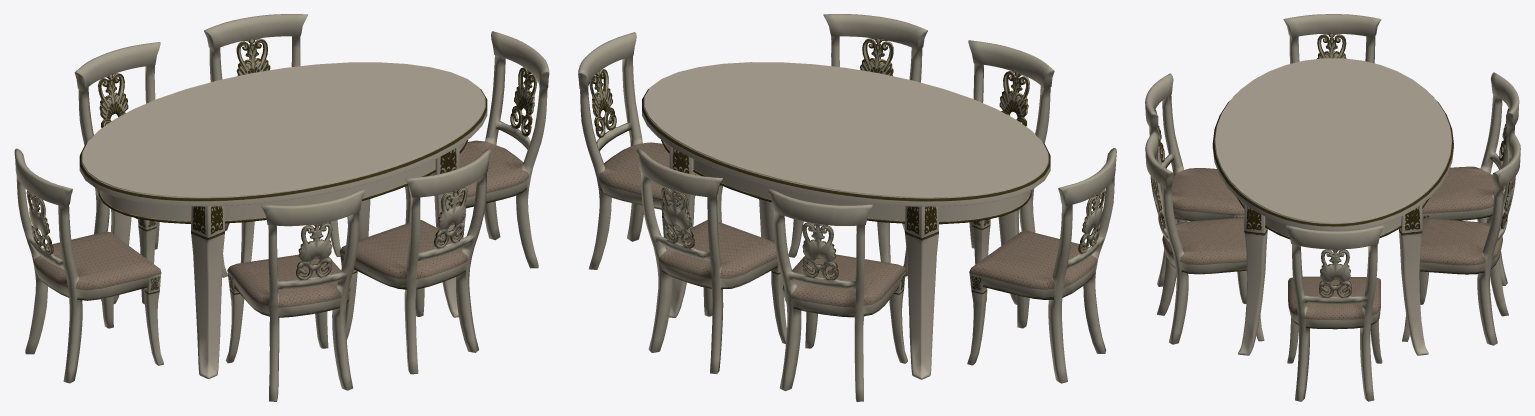
Rendered from table.gltf.
3 renders of one model, left to right at view 1: azimuth 30°, elevation 25°; view 2: azimuth 150°, elevation 25°; view 3: azimuth 270°, elevation 25°, orthographic. The views are drawn at different scales.
Visible parts, largest first — view 1: Vivaldi_wood_table_low_1_, Vivaldi_wood_stool_low_011, Vivaldi_wood_stool_low_007, Vivaldi_wood_stool_low_010, Vivaldi_wood_stool_low_006, Vivaldi_wood_stool_low_008, Vivaldi_wood_stool_low_009; view 2: Vivaldi_wood_table_low_1_, Vivaldi_wood_stool_low_008, Vivaldi_wood_stool_low_009, Vivaldi_wood_stool_low_007, Vivaldi_wood_stool_low_006, Vivaldi_wood_stool_low_011, Vivaldi_wood_stool_low_010; view 3: Vivaldi_wood_table_low_1_, Vivaldi_wood_stool_low_006, Vivaldi_wood_stool_low_010, Vivaldi_wood_stool_low_009, Vivaldi_wood_stool_low_008, Vivaldi_wood_stool_low_011, Vivaldi_wood_stool_low_007.
Part boxes in pixels (left/top/right/bottom): Vivaldi_wood_table_low_1_: left=79, top=62, right=487, bottom=378; Vivaldi_wood_stool_low_011: left=225, top=189, right=364, bottom=401; Vivaldi_wood_stool_low_007: left=14, top=148, right=163, bottom=383; Vivaldi_wood_stool_low_010: left=339, top=149, right=490, bottom=374; Vivaldi_wood_stool_low_006: left=405, top=31, right=549, bottom=268; Vivaldi_wood_stool_low_008: left=74, top=42, right=227, bottom=304; Vivaldi_wood_stool_low_009: left=204, top=14, right=340, bottom=262; Vivaldi_wood_table_low_1_: left=642, top=62, right=1050, bottom=379; Vivaldi_wood_stool_low_008: left=768, top=189, right=907, bottom=401; Vivaldi_wood_stool_low_009: left=636, top=148, right=786, bottom=373; Vivaldi_wood_stool_low_007: left=967, top=148, right=1116, bottom=383; Vivaldi_wood_stool_low_006: left=578, top=32, right=722, bottom=269; Vivaldi_wood_stool_low_011: left=903, top=40, right=1054, bottom=301; Vivaldi_wood_stool_low_010: left=788, top=14, right=927, bottom=263; Vivaldi_wood_table_low_1_: left=1212, top=58, right=1453, bottom=355; Vivaldi_wood_stool_low_006: left=1285, top=225, right=1383, bottom=401; Vivaldi_wood_stool_low_010: left=1145, top=132, right=1264, bottom=344; Vivaldi_wood_stool_low_009: left=1402, top=132, right=1520, bottom=345; Vivaldi_wood_stool_low_008: left=1400, top=72, right=1519, bottom=285; Vivaldi_wood_stool_low_011: left=1145, top=73, right=1247, bottom=286; Vivaldi_wood_stool_low_007: left=1283, top=14, right=1381, bottom=63.
Size of the model in its own units: 2.37 by 0.8924 by 1.72.
Materials: 2 (2 with a texture image).
